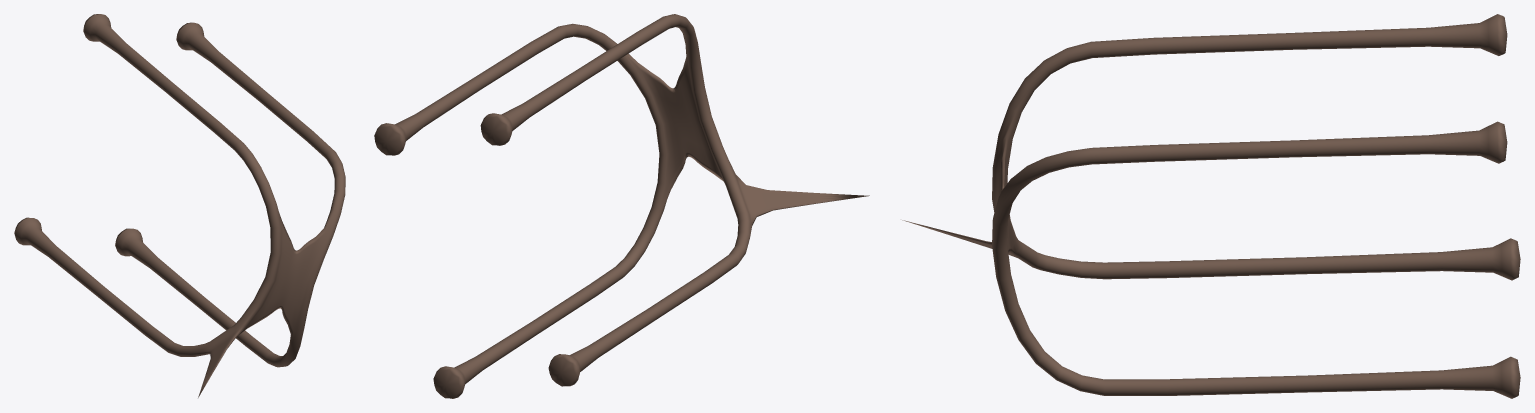
The model's file is caminadora.obj.
3 views of the same model, side by side, from view 1: azimuth 30°, elevation 25°; view 2: azimuth 150°, elevation 25°; view 3: azimuth 270°, elevation 25° (orthographic). The views are drawn at different scales.
Parts seen in each view (by area): view 1: pCone120; view 2: pCone120; view 3: pCone120.
Boxes of the visible parts, x1,y1,x2,y2 form: pCone120: [14, 14, 345, 397]; pCone120: [374, 14, 869, 398]; pCone120: [902, 14, 1520, 398].
Size of the model in its own units: 3.24 by 3.6 by 5.68.
